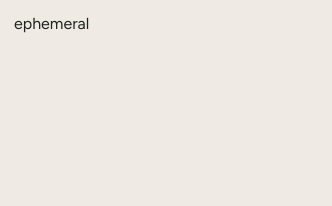
Test case: WordPopup › I4: tapping a word looks it up read-only (add: false) and shows its definition without adding it
Click the button "ephemeral" at (52, 24), box 12,14 -> 91,33
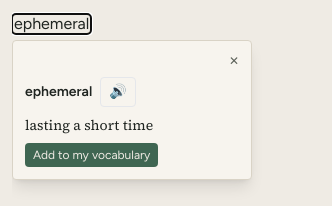
Check: the text "lasting a short time" is shown, box 25,115 -> 153,135
